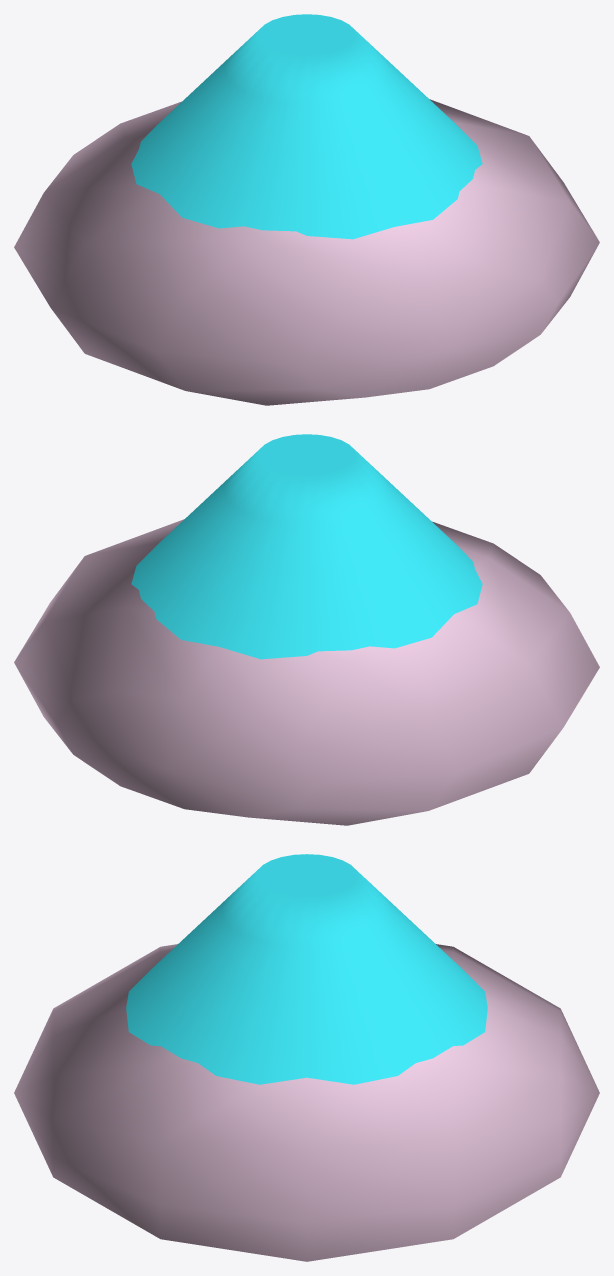
File: ufo2.obj
The picture shows the model from 3 angles, top to bottom: view 1: azimuth 30°, elevation 25°; view 2: azimuth 150°, elevation 25°; view 3: azimuth 270°, elevation 25°; orthographic projection. The views are drawn at different scales.
Visible parts, largest first — view 1: Sphere01, Cone01; view 2: Sphere01, Cone01; view 3: Sphere01, Cone01.
Part boxes in pixels (x1,y1,x2,y2): Sphere01: (14,99,599,405); Cone01: (131,14,482,239); Sphere01: (14,519,599,825); Cone01: (131,434,482,659); Sphere01: (14,944,599,1261); Cone01: (126,854,487,1084).
Size of the model in its own units: 131 by 77.71 by 125.
